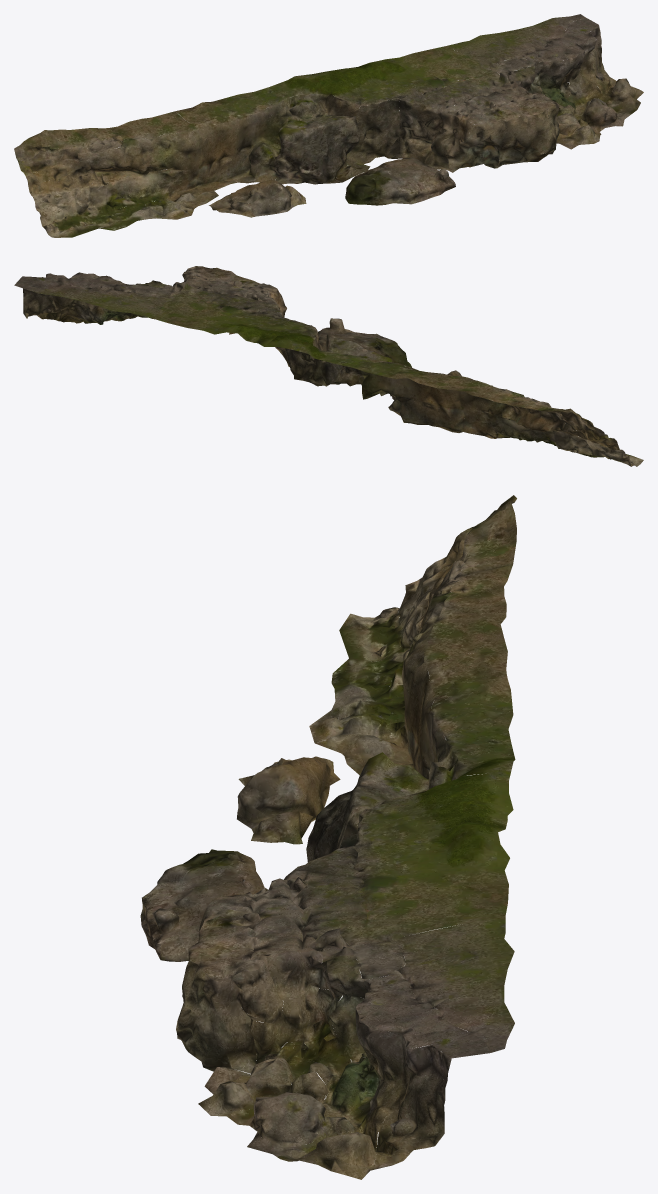
Rendered from coastal_cliff_04.glb.
3 renders of one model, top to bottom at view 1: azimuth 30°, elevation 25°; view 2: azimuth 150°, elevation 25°; view 3: azimuth 270°, elevation 25°, orthographic. The views are drawn at different scales.
Parts seen in each view (by area): view 1: coastal_cliff_04; view 2: coastal_cliff_04; view 3: coastal_cliff_04.
Boxes of the visible parts, x1,y1,x2,y2 form: coastal_cliff_04: (14, 14, 643, 237); coastal_cliff_04: (14, 266, 643, 466); coastal_cliff_04: (140, 495, 516, 1179).
Bounding box in the file's own units: 86.77 × 10.95 × 24.05.
Materials: 1 (1 with a texture image).
